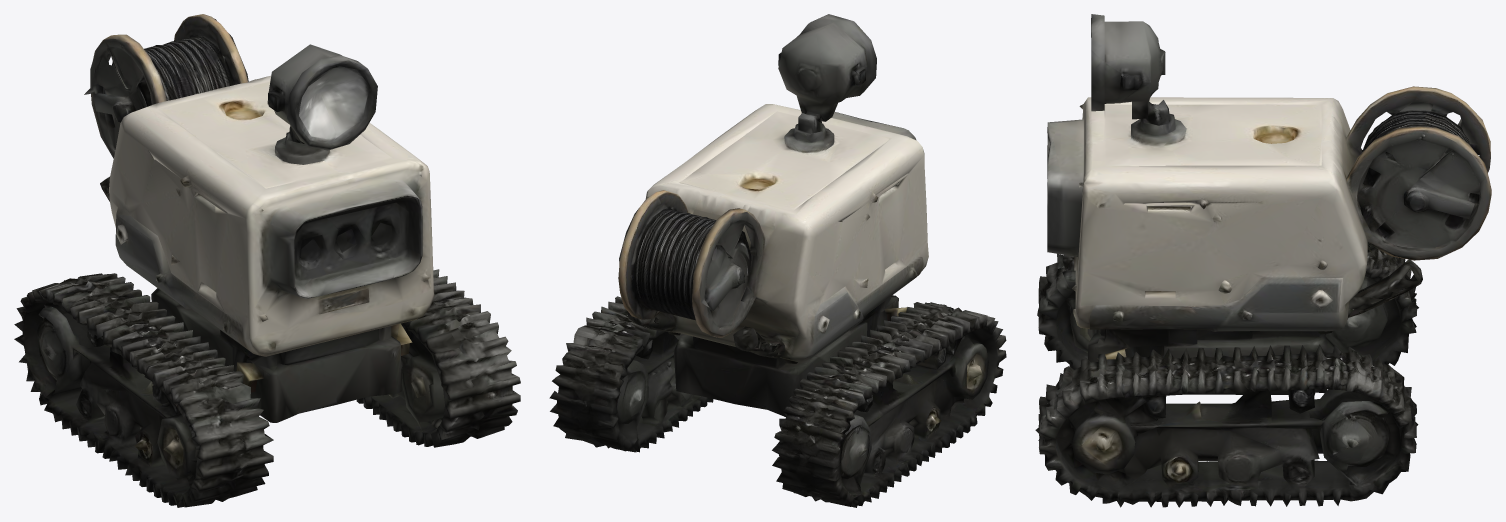
The model's file is robot.glb.
The picture shows the model from 3 angles, left to right: view 1: azimuth 30°, elevation 25°; view 2: azimuth 150°, elevation 25°; view 3: azimuth 270°, elevation 25°; orthographic projection. The views are drawn at different scales.
Parts seen in each view (by area): view 1: tripo_node_55bcdd7d-c8df-449f-84a5-caf0f209eb9d; view 2: tripo_node_55bcdd7d-c8df-449f-84a5-caf0f209eb9d; view 3: tripo_node_55bcdd7d-c8df-449f-84a5-caf0f209eb9d.
Part boxes in pixels (bbox=[...]): tripo_node_55bcdd7d-c8df-449f-84a5-caf0f209eb9d: bbox=[14, 14, 520, 507]; tripo_node_55bcdd7d-c8df-449f-84a5-caf0f209eb9d: bbox=[549, 14, 1006, 507]; tripo_node_55bcdd7d-c8df-449f-84a5-caf0f209eb9d: bbox=[1035, 14, 1491, 507].
Size of the model in its own units: 0.8262 by 0.9942 by 0.9904.
1 material, 1 textured.
